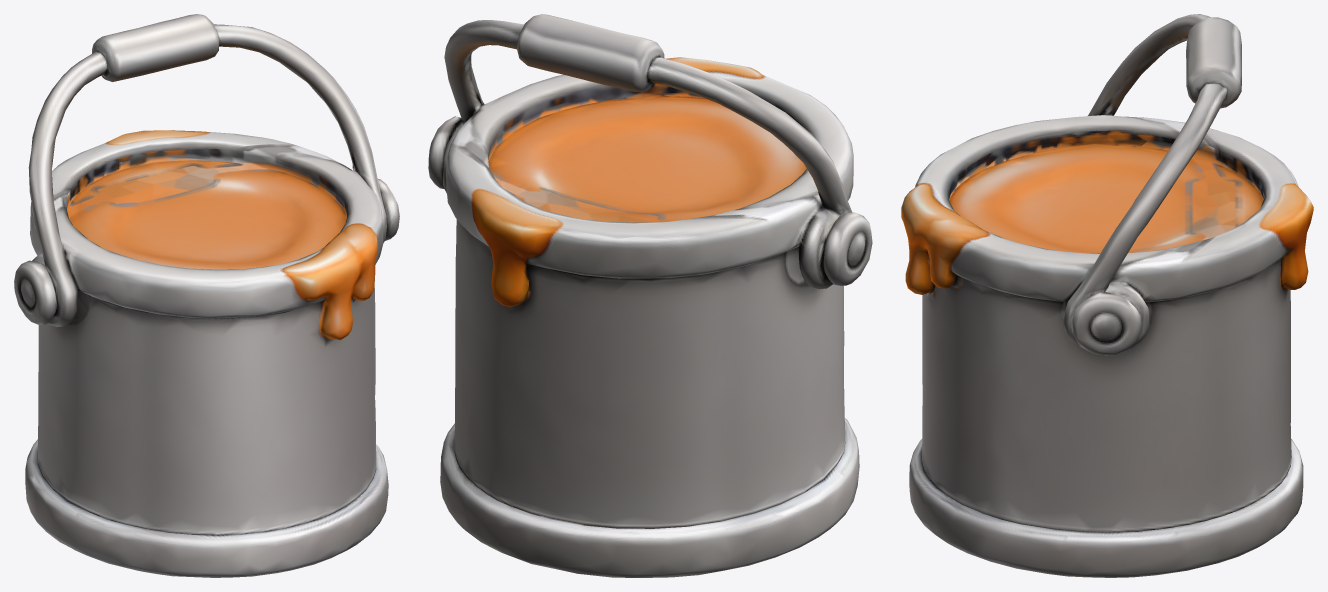
File: PaintCan.glb
The picture shows the model from 3 angles, left to right: view 1: azimuth 30°, elevation 25°; view 2: azimuth 150°, elevation 25°; view 3: azimuth 270°, elevation 25°; orthographic projection. The views are drawn at different scales.
Parts seen in each view (by area): view 1: input; view 2: input; view 3: input.
Part boxes in pixels (x1,y1,x2,y2): input: (14, 14, 399, 577); input: (428, 14, 872, 577); input: (901, 14, 1313, 577).
Size of the model in its own units: 0.8684 by 0.9996 by 0.8111.
Materials: 1 (1 with a texture image).
